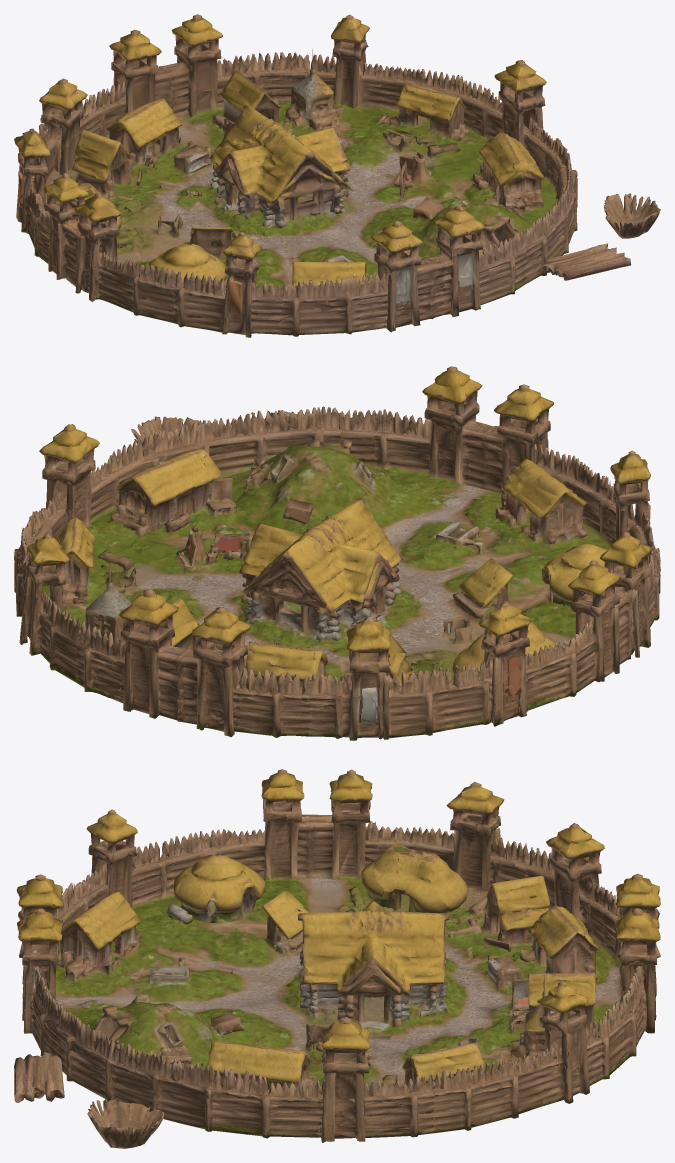
File: Village_Gauls_M.glb
The picture shows the model from 3 angles, top to bottom: view 1: azimuth 30°, elevation 25°; view 2: azimuth 150°, elevation 25°; view 3: azimuth 270°, elevation 25°; orthographic projection. The views are drawn at different scales.
Visible parts, largest first — view 1: Mesh_0; view 2: Mesh_0; view 3: Mesh_0.
Part boxes in pixels (bbox=[...]): Mesh_0: bbox=[14, 14, 660, 337]; Mesh_0: bbox=[14, 366, 660, 740]; Mesh_0: bbox=[14, 769, 660, 1148].
Bounding box in the file's own units: 1.9 × 0.3714 × 1.84.
Materials: 1 (1 with a texture image).
